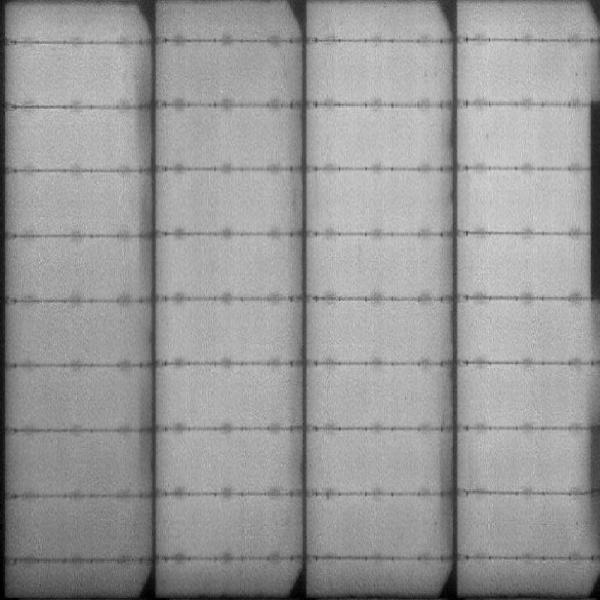black_border: (586, 99, 600, 310), (588, 420, 599, 520)
